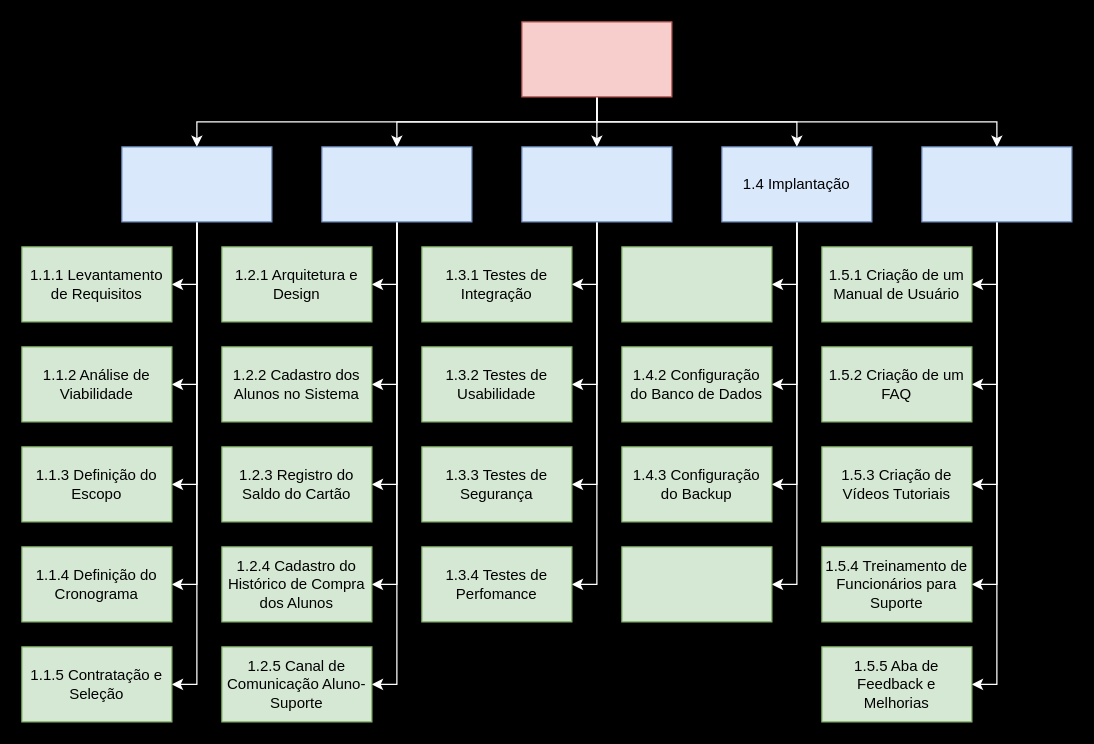
Image size: 1094x744. Some labels were removed from this diagram. The box of each missing label's shape, as (x1, y1, x2, y2) in pixels:
1. Desenvolvimento da Logística do Almoço: (521, 21, 672, 97)
1.1 Planejamento: (121, 146, 272, 222)
1.2 Desenvolvimento: (321, 146, 472, 222)
1.3 Testes: (521, 146, 672, 222)
1.4.1 Hospedagem em Produção: (621, 246, 772, 322)
1.4.4 Disponibilização pro Usuário: (621, 546, 772, 622)
1.5 Treinamento e Suporte: (921, 146, 1072, 222)
